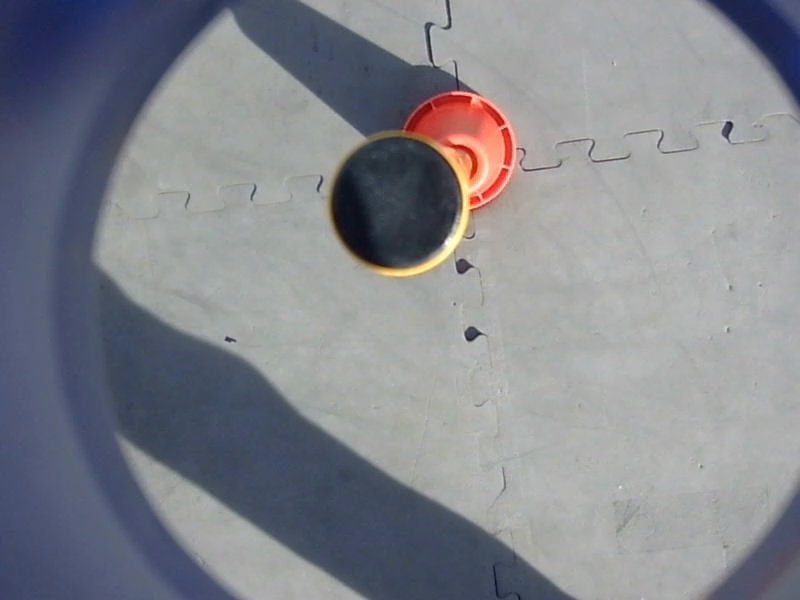tip: (316, 127, 475, 289)
